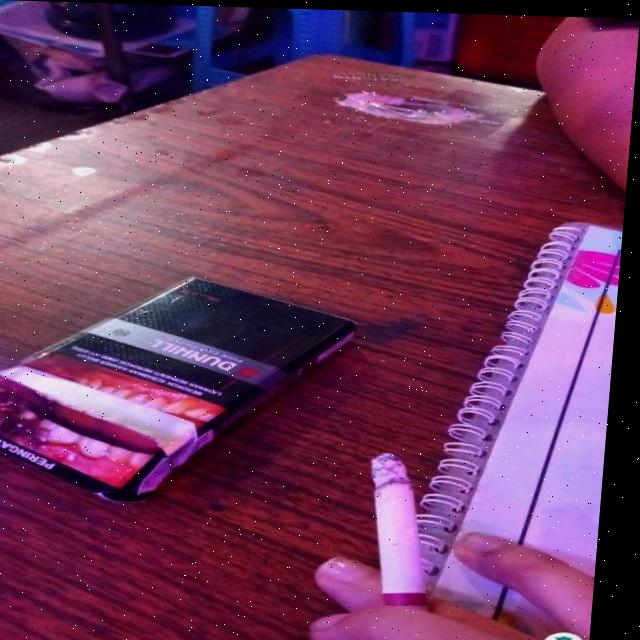cigarette: (370, 453, 445, 604)
